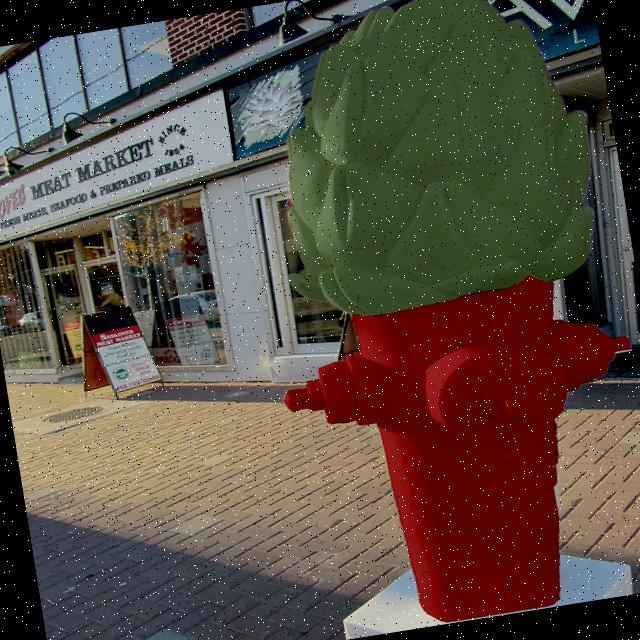fire_hydrant: (227, 0, 640, 640)
